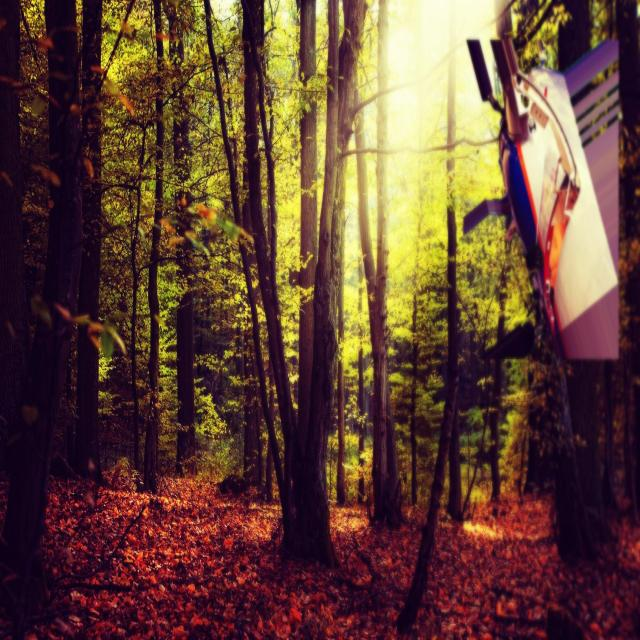airplane: (462, 29, 620, 364)
